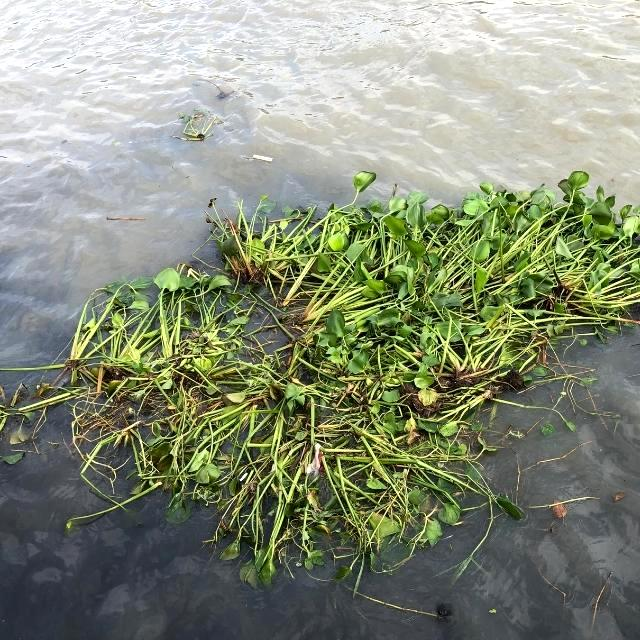water-hyacinth: (1, 167, 640, 595), (178, 110, 223, 148)
